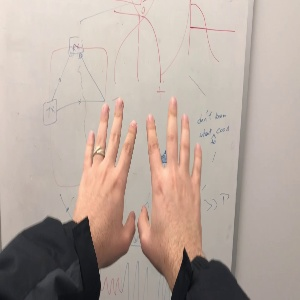hand: (139, 96, 202, 255), (74, 97, 138, 247)
